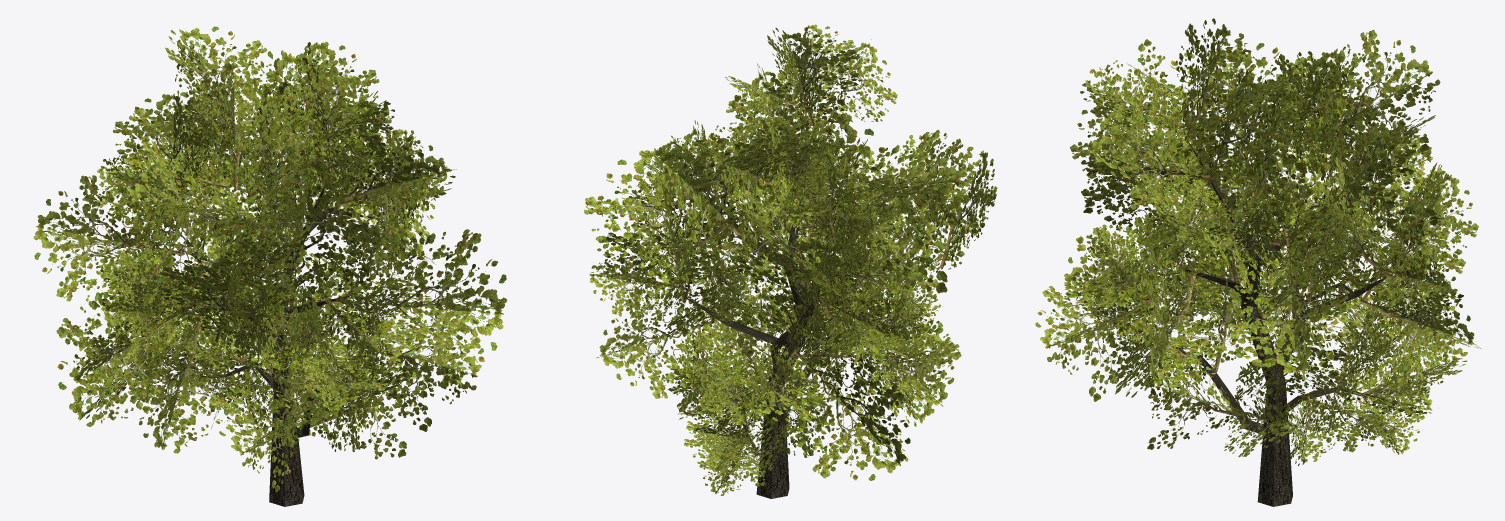
The model's file is tree_c.FBX.
The picture shows the model from 3 angles, left to right: view 1: azimuth 30°, elevation 25°; view 2: azimuth 150°, elevation 25°; view 3: azimuth 270°, elevation 25°; orthographic projection. The views are drawn at different scales.
Visible parts, largest first — view 1: tree_c; view 2: tree_c; view 3: tree_c.
Part boxes in pixels (box(x1,y1,x2,y2)): tree_c: box(33, 26, 507, 506); tree_c: box(584, 24, 997, 498); tree_c: box(1035, 18, 1481, 506).
Bounding box in the file's own units: 14.92 × 17.93 × 15.35.
2 materials, 2 textured.
